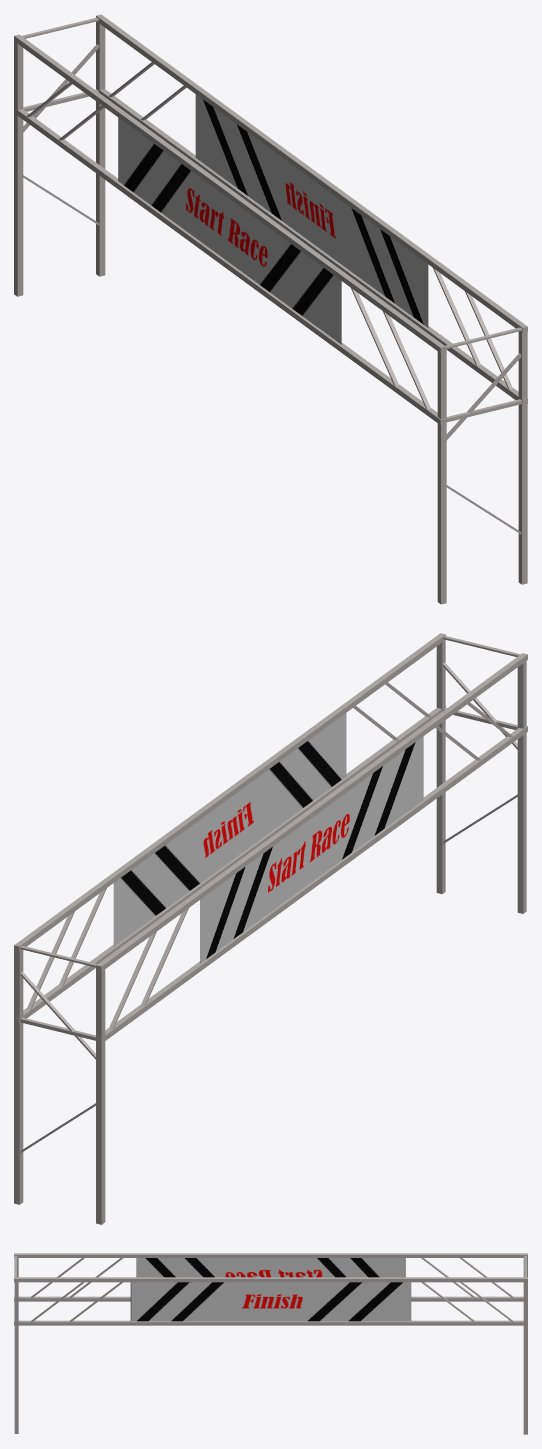
File: StartandFinishLine.fbx
3 renders of one model, top to bottom at view 1: azimuth 30°, elevation 25°; view 2: azimuth 150°, elevation 25°; view 3: azimuth 270°, elevation 25°, orthographic. The views are drawn at different scales.
Parts seen in each view (by area): view 1: Plane.001; view 2: Plane.001; view 3: Plane.001.
Part boxes in pixels (left/top/right/bottom): Plane.001: left=14, top=14, right=527, bottom=604; Plane.001: left=14, top=633, right=527, bottom=1224; Plane.001: left=14, top=1253, right=527, bottom=1434.
Bounding box in the file's own units: 283 × 795 × 2380.
Materials: 3 (2 with a texture image).
